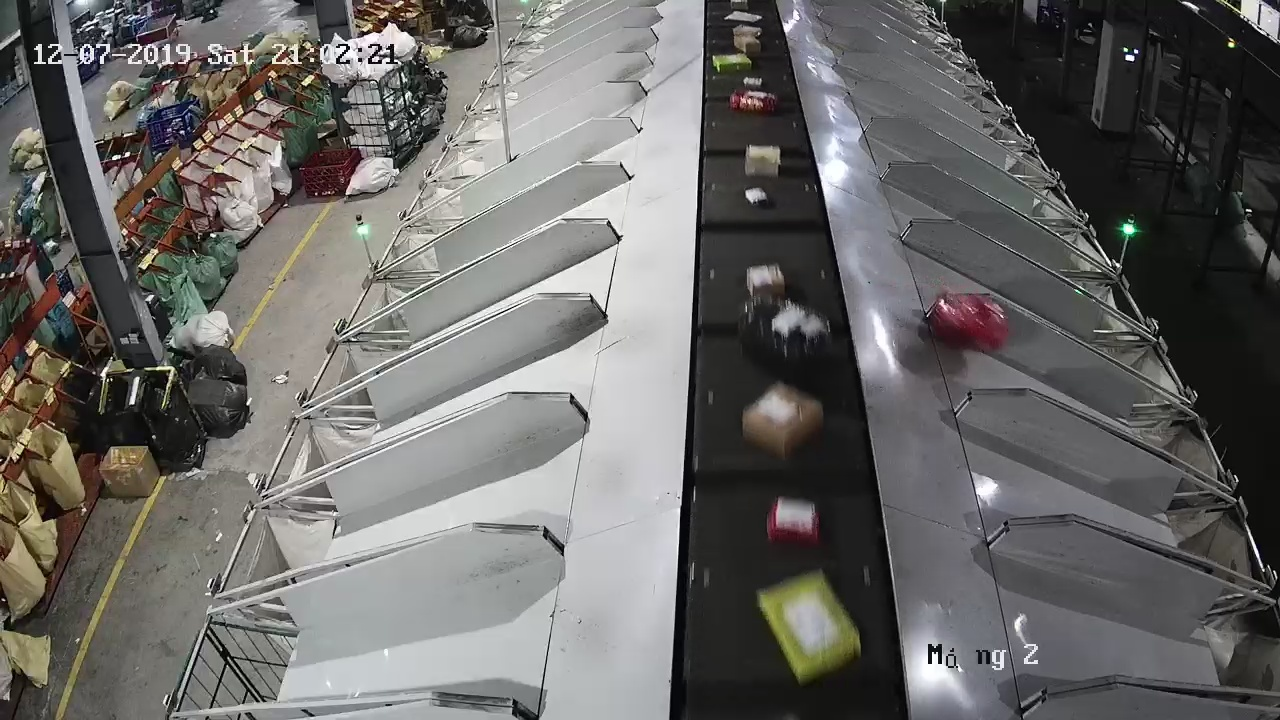parcel: (931, 292, 1008, 352)
